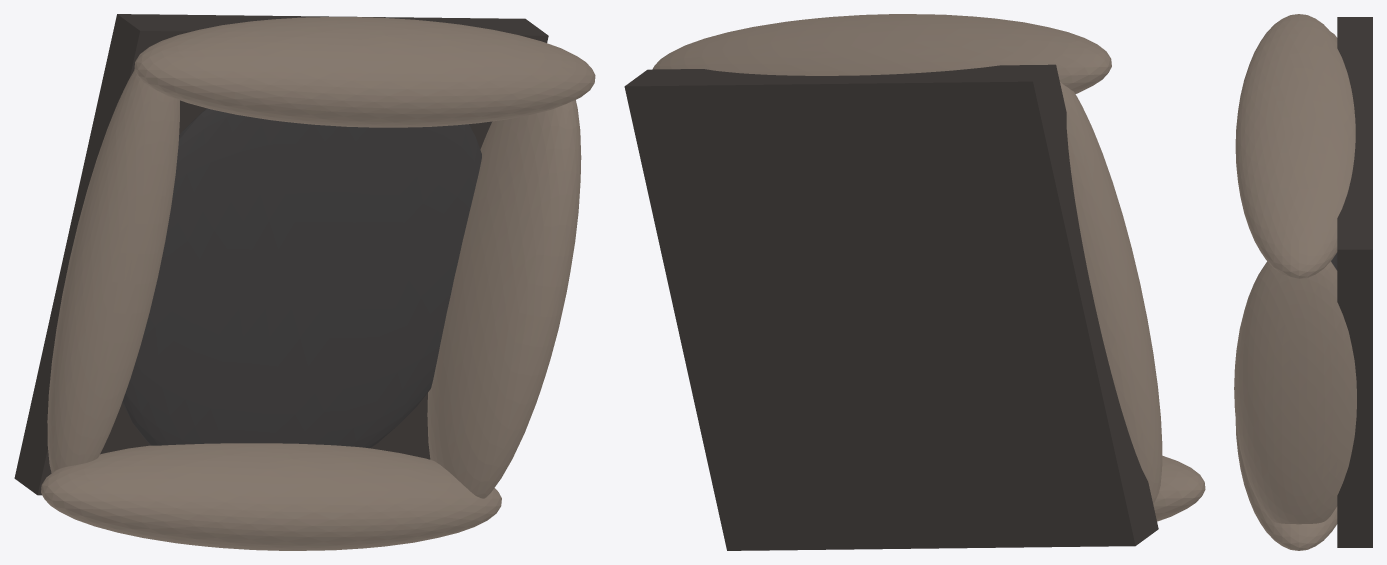
File: component_023_pet_bed.glb
The picture shows the model from 3 angles, left to right: view 1: azimuth 30°, elevation 25°; view 2: azimuth 150°, elevation 25°; view 3: azimuth 270°, elevation 25°; orthographic projection. The views are drawn at different scales.
Parts seen in each view (by area): view 1: 023_pet_bed_001_instance_001_photo_-01, 023_pet_bed_003_instance_003_photo_-01, 023_pet_bed_004_instance_004_photo_-01, 023_pet_bed_002_instance_002_photo_-01, 023_pet_bed_005_instance_005_photo_-01, 023_pet_bed_000_instance_000_photo_-01; view 2: 023_pet_bed_000_instance_000_photo_-01, 023_pet_bed_003_instance_003_photo_-01, 023_pet_bed_005_instance_005_photo_-01, 023_pet_bed_002_instance_002_photo_-01; view 3: 023_pet_bed_004_instance_004_photo_-01, 023_pet_bed_003_instance_003_photo_-01, 023_pet_bed_000_instance_000_photo_-01, 023_pet_bed_002_instance_002_photo_-01.
Boxes of the visible parts, bbox=[...] form: 023_pet_bed_001_instance_001_photo_-01: bbox=[122, 108, 481, 448]; 023_pet_bed_003_instance_003_photo_-01: bbox=[134, 17, 595, 127]; 023_pet_bed_004_instance_004_photo_-01: bbox=[427, 100, 581, 498]; 023_pet_bed_002_instance_002_photo_-01: bbox=[41, 443, 501, 550]; 023_pet_bed_005_instance_005_photo_-01: bbox=[47, 70, 179, 472]; 023_pet_bed_000_instance_000_photo_-01: bbox=[14, 14, 548, 495]; 023_pet_bed_000_instance_000_photo_-01: bbox=[624, 64, 1158, 550]; 023_pet_bed_003_instance_003_photo_-01: bbox=[653, 14, 1111, 93]; 023_pet_bed_005_instance_005_photo_-01: bbox=[1060, 82, 1162, 503]; 023_pet_bed_002_instance_002_photo_-01: bbox=[1153, 455, 1205, 521]; 023_pet_bed_004_instance_004_photo_-01: bbox=[1234, 261, 1356, 524]; 023_pet_bed_003_instance_003_photo_-01: bbox=[1235, 14, 1355, 278]; 023_pet_bed_000_instance_000_photo_-01: bbox=[1337, 17, 1372, 547]; 023_pet_bed_002_instance_002_photo_-01: bbox=[1235, 420, 1337, 550].
Bounding box in the file's own units: 0.2006 × 0.1911 × 0.0575.
